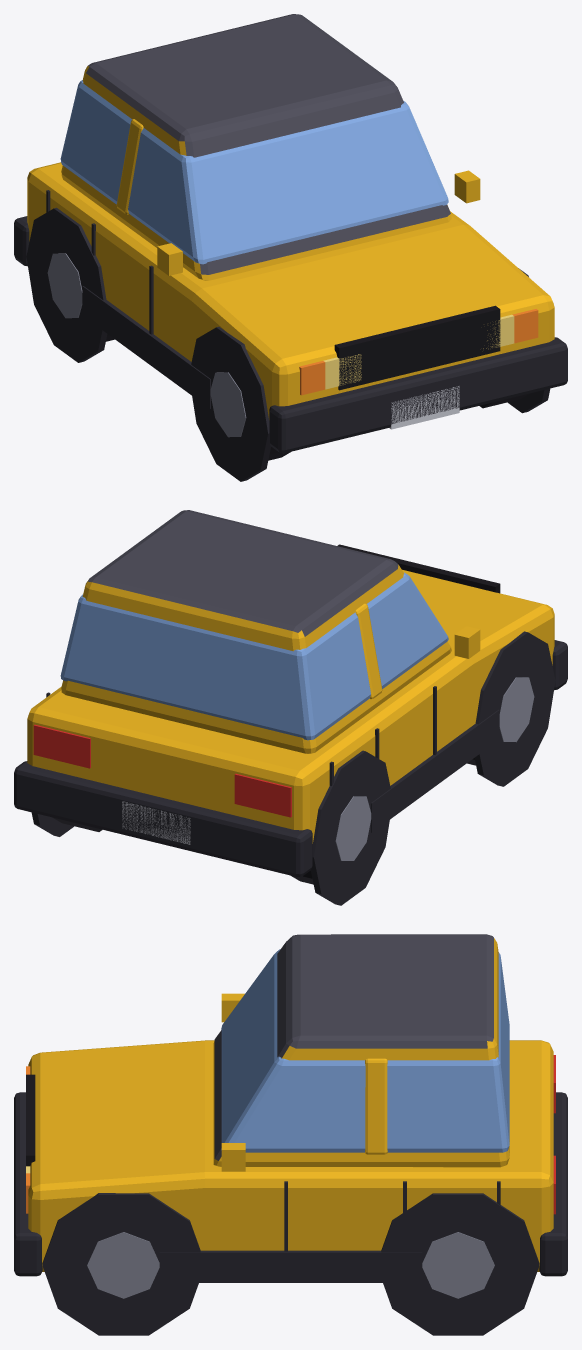
File: city-car.glb
3 renders of one model, top to bottom at view 1: azimuth 30°, elevation 25°; view 2: azimuth 150°, elevation 25°; view 3: azimuth 270°, elevation 25°, orthographic. The views are drawn at different scales.
Parts seen in each view (by area): view 1: CityCar; view 2: CityCar; view 3: CityCar.
Part boxes in pixels (x1,y1,x2,y2): CityCar: [14, 14, 567, 481]; CityCar: [14, 510, 567, 905]; CityCar: [14, 934, 567, 1335].
Size of the model in its own units: 1.55 by 1.28 by 2.32.
1 material, 1 textured.
